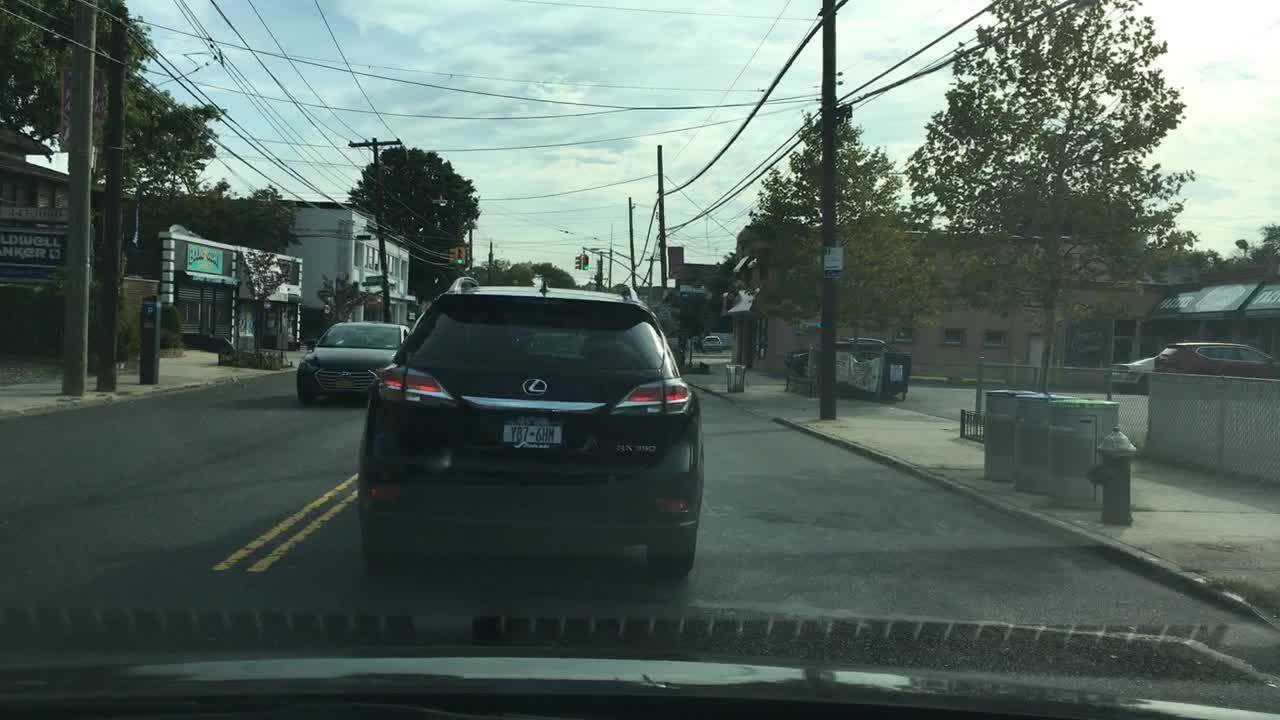lexus: (519, 373, 550, 401)
